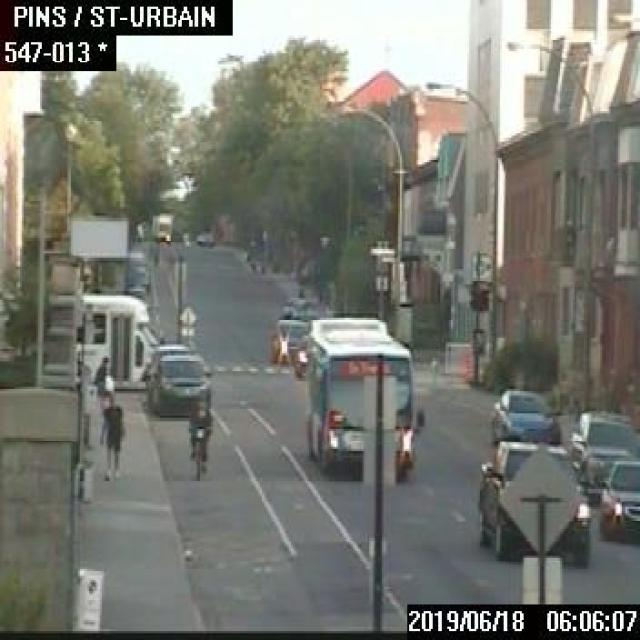bus: (306, 314, 424, 474)
construction: (463, 351, 471, 381)
cyclist: (188, 388, 212, 475)
pedestrian: (100, 396, 124, 478), (93, 351, 110, 409)
vehicle: (476, 437, 599, 562), (75, 292, 163, 389), (568, 407, 638, 499), (488, 388, 562, 448), (146, 352, 212, 415), (596, 454, 638, 542), (145, 344, 193, 390), (270, 317, 307, 362), (147, 209, 173, 240), (293, 331, 309, 376), (281, 296, 311, 317), (126, 272, 148, 294), (194, 228, 215, 246), (125, 264, 148, 280), (126, 249, 145, 265)
